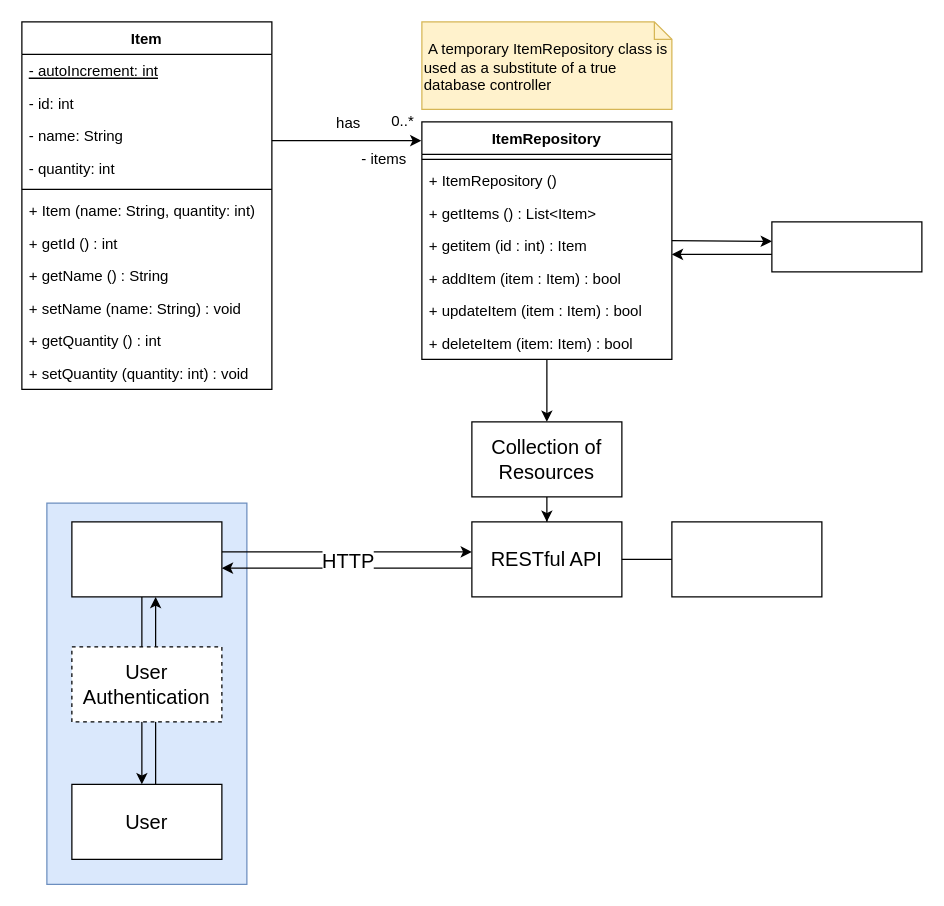
Some shapes in this 944 by 906 pixel diagram are drawn without their labels. The centre of each missing label's shape, as x and y in pixels:
Database: (x=846, y=246)
Front-end (Client): (x=146, y=559)
Server Configuration: (x=746, y=559)
